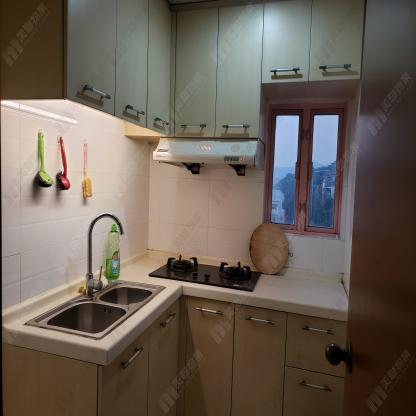Cupboard: (262, 0, 367, 100)
Exhaust Hood: (152, 136, 266, 183)
Faucet: (81, 209, 125, 300)
Sink: (3, 275, 181, 351)
Stove: (135, 251, 275, 296)
